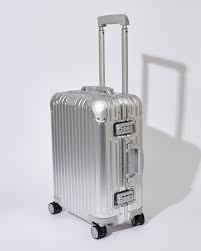suitcase: (45, 15, 147, 240)
